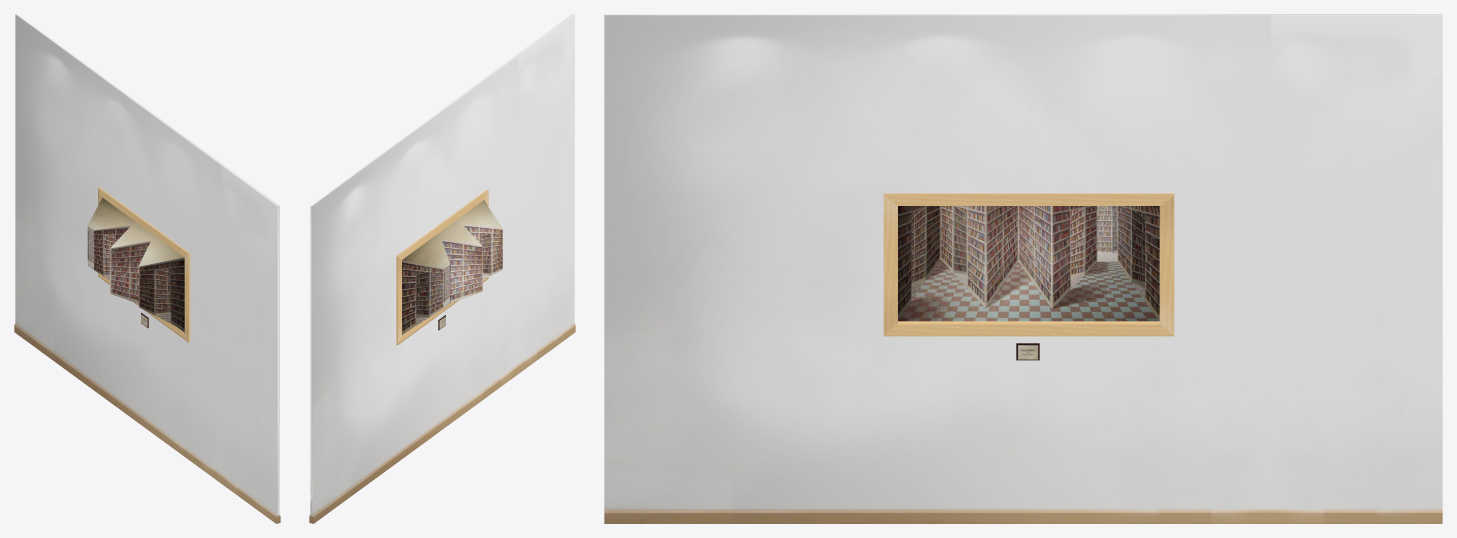
File: PatrickHugesLibrary.glb
3 renders of one model, left to right at view 1: azimuth 30°, elevation 25°; view 2: azimuth 150°, elevation 25°; view 3: azimuth 270°, elevation 25°, orthographic. The views are drawn at different scales.
Parts seen in each view (by area): view 1: wall2_0, Cube.001_0, Frame_0; view 2: wall2_0, Cube.001_0, Frame_0; view 3: wall2_0, Cube.001_0, Frame_0.
Boxes of the visible parts, x1,y1,x2,y2 form: wall2_0: [14, 14, 280, 523]; Cube.001_0: [87, 197, 184, 332]; Frame_0: [98, 187, 190, 342]; wall2_0: [309, 14, 575, 523]; Cube.001_0: [402, 200, 502, 334]; Frame_0: [396, 189, 488, 345]; wall2_0: [604, 14, 1442, 523]; Cube.001_0: [898, 206, 1159, 321]; Frame_0: [883, 193, 1174, 336].
Bounding box in the file's own units: 0.4442 × 3.27 × 4.9.
Materials: 4 (4 with a texture image).
